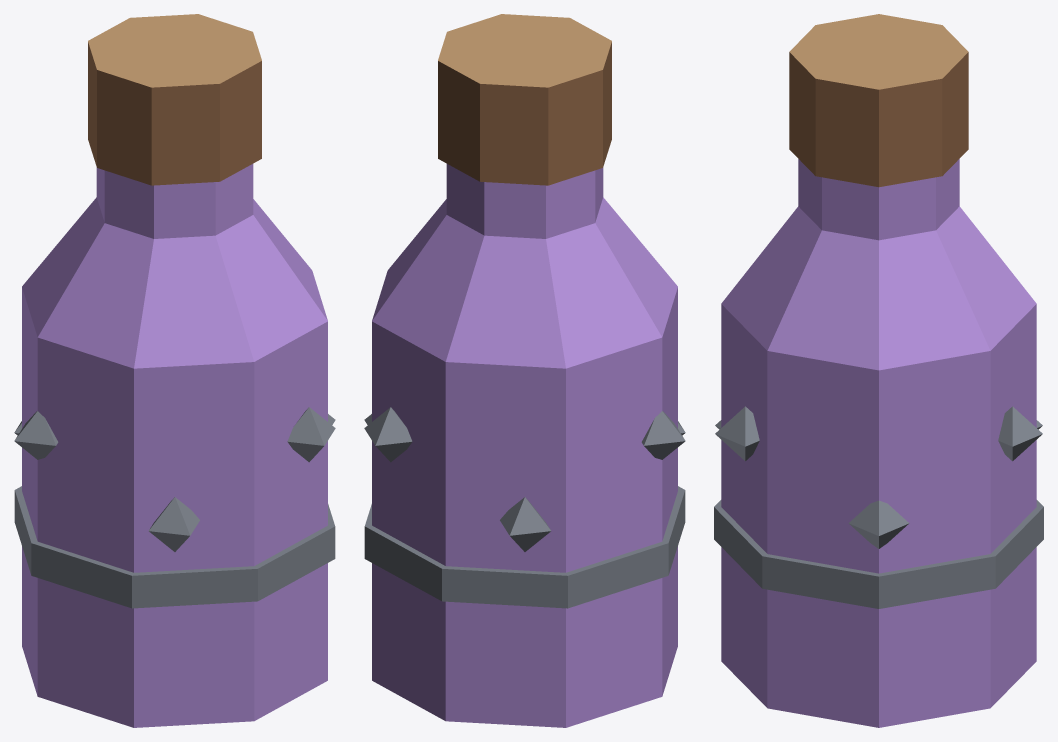
Rendered from deco_fx_rain.obj.
3 views of the same model, side by side, from view 1: azimuth 30°, elevation 25°; view 2: azimuth 150°, elevation 25°; view 3: azimuth 270°, elevation 25° (orthographic).
Parts seen in each view (by area): view 1: deco_fx_rain; view 2: deco_fx_rain; view 3: deco_fx_rain.
Part boxes in pixels (<box>): deco_fx_rain: <box>14,14,335,727</box>; deco_fx_rain: <box>364,14,685,727</box>; deco_fx_rain: <box>714,14,1043,727</box>.
Size of the model in its own units: 0.0206 by 0.0375 by 0.0184.
Materials: 1 (1 with a texture image).
